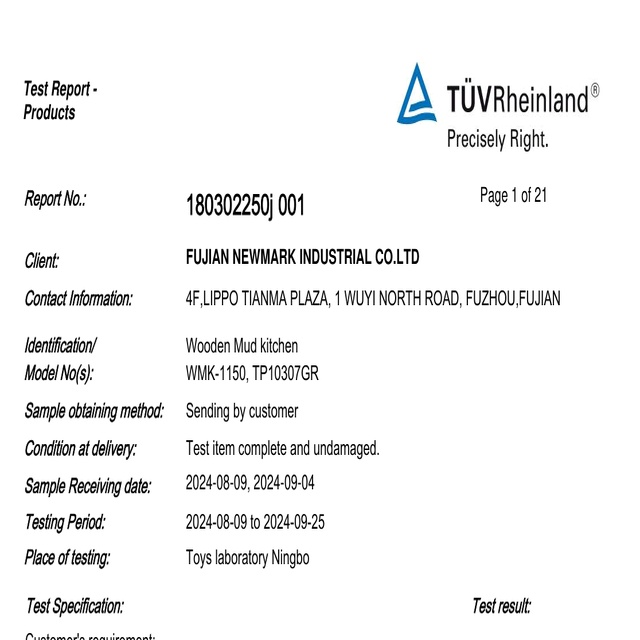tuv_rheinland: (394, 60, 597, 128)
